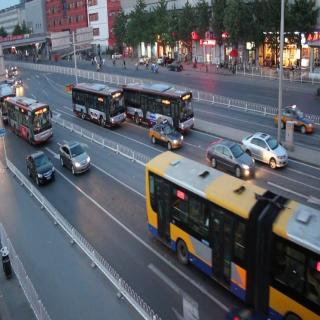BigCar: (144, 147, 320, 320), (123, 78, 195, 134), (7, 89, 52, 150), (72, 76, 117, 134)
Car: (12, 140, 57, 192), (240, 130, 288, 172), (209, 138, 247, 181), (145, 118, 186, 153), (62, 138, 85, 175)
